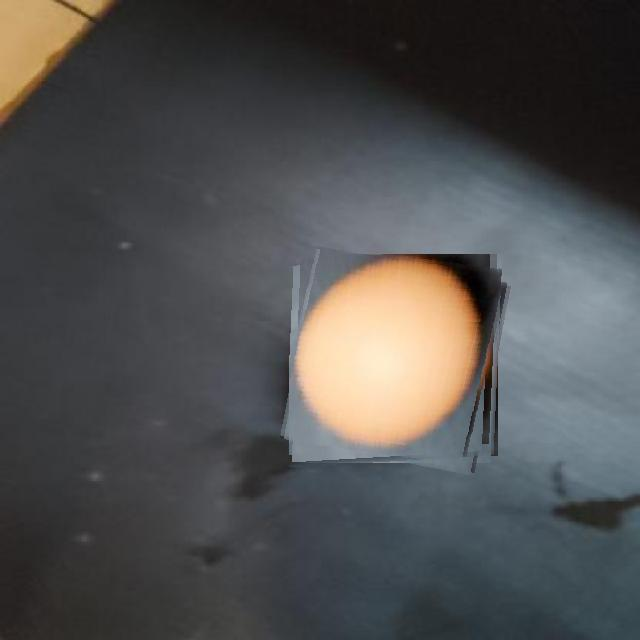biodegradable: (289, 254, 503, 468)
